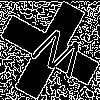W: (25, 25, 89, 88)
